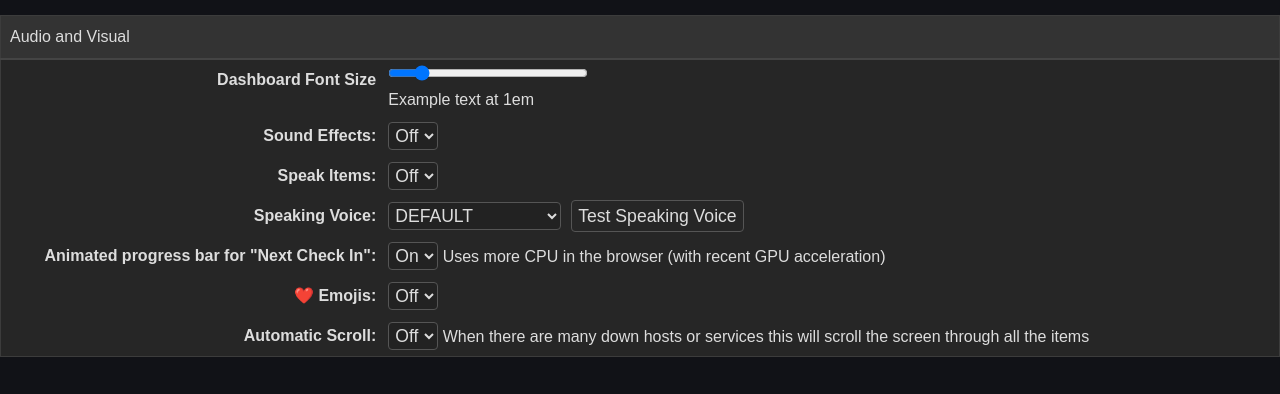
AudioVisualSettings › updates the font-size setting with its CSS unit
Set the slider named "Dashboard Font Size" to "1.8" at [465, 73], box [388, 65, 588, 81]
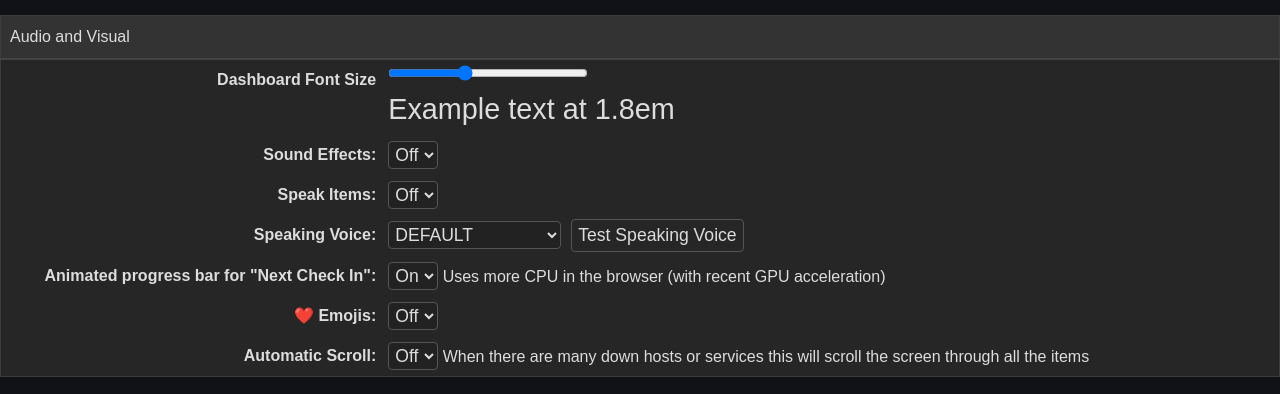
Now the text "Example text at 1.8em" is shown, box [388, 93, 675, 125]
